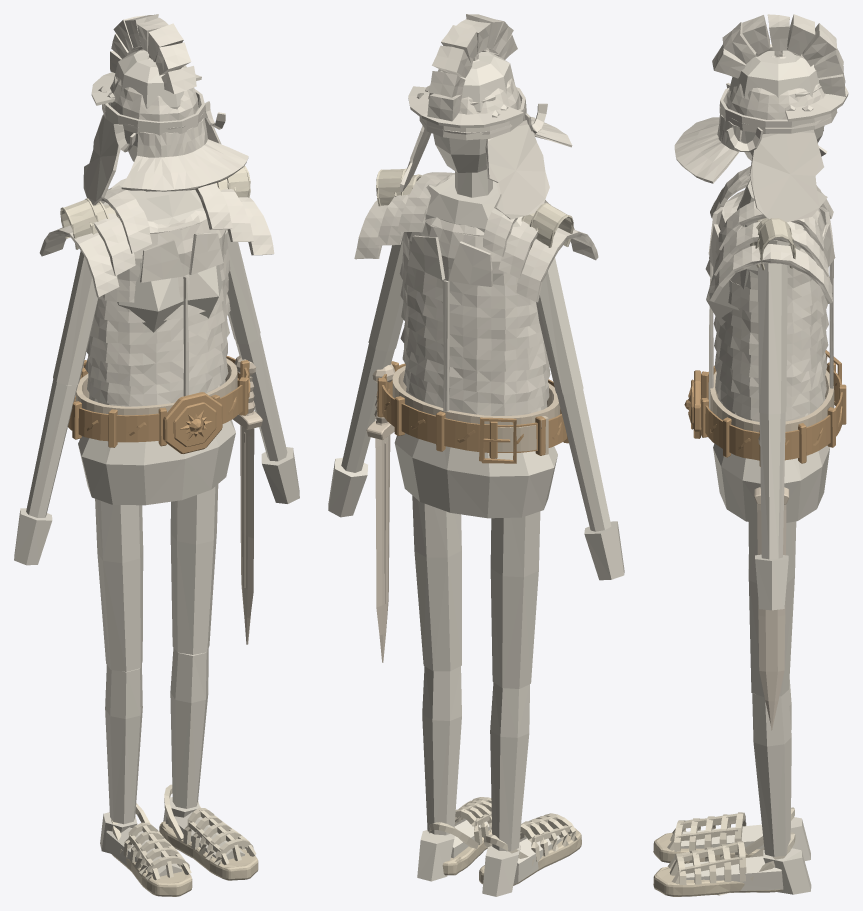
Rendered from roman-female-skinny.glb.
3 renders of one model, left to right at view 1: azimuth 30°, elevation 25°; view 2: azimuth 150°, elevation 25°; view 3: azimuth 270°, elevation 25°, orthographic. The views are drawn at different scales.
Parts seen in each view (by area): view 1: torso, leg_upper_l, leg_upper_r, helmet:neck_guard, leg_lower_r, leg_lower_l, arm_lower_l, arm_upper_l, cuirass:girth_hoop_3, cuirass:girth_hoop_2, cuirass:girth_hoop_4, cuirass:girth_hoop_1 (+34 smaller); view 2: torso, leg_upper_l, leg_upper_r, leg_lower_r, leg_lower_l, helmet:cheek_guard_r, arm_lower_l, arm_upper_l, head, cuirass:girth_hoop_2, cuirass:girth_hoop_1, cuirass:girth_hoop_3 (+39 smaller); view 3: torso, helmet:cheek_guard_l, leg_lower_r, arm_upper_r, arm_lower_r, head, leg_upper_r, helmet:neck_guard, gladius:blade, cuirass:shoulder_lame_l2, helmet:bowl, cuirass:girth_hoop_3 (+38 smaller).
Boxes of the visible parts, x1,y1,x2,y2 form: torso: [78, 178, 235, 505]; leg_upper_l: [95, 498, 143, 671]; leg_upper_r: [170, 484, 218, 654]; helmet:neck_guard: [121, 118, 248, 191]; leg_lower_r: [170, 647, 208, 808]; leg_lower_l: [105, 664, 142, 824]; arm_lower_l: [26, 379, 77, 517]; arm_upper_l: [53, 251, 98, 385]; cuirass:girth_hoop_3: [86, 317, 229, 365]; cuirass:girth_hoop_2: [85, 338, 227, 386]; cuirass:girth_hoop_4: [90, 294, 230, 344]; cuirass:girth_hoop_1: [87, 357, 228, 405]; torso: [394, 174, 557, 518]; leg_upper_l: [490, 511, 540, 688]; leg_upper_r: [412, 495, 461, 671]; leg_lower_r: [422, 666, 461, 835]; leg_lower_l: [490, 682, 529, 851]; helmet:cheek_guard_r: [485, 120, 549, 219]; arm_lower_l: [557, 389, 611, 531]; arm_upper_l: [536, 257, 583, 394]; head: [432, 51, 514, 172]; cuirass:girth_hoop_2: [402, 344, 550, 395]; cuirass:girth_hoop_1: [403, 366, 549, 415]; cuirass:girth_hoop_3: [400, 321, 548, 371]; torso: [705, 179, 829, 522]; helmet:cheek_guard_l: [749, 129, 827, 222]; leg_lower_r: [752, 690, 791, 856]; arm_upper_r: [758, 263, 787, 414]; arm_lower_r: [759, 412, 785, 559]; head: [729, 50, 824, 160]; leg_upper_r: [748, 521, 796, 697]; helmet:neck_guard: [674, 114, 742, 183]; gladius:blade: [757, 504, 786, 730]; cuirass:shoulder_lame_l2: [709, 244, 832, 303]; helmet:bowl: [726, 53, 825, 119]; cuirass:girth_hoop_3: [714, 331, 828, 377].
Bounding box in the file's own units: 0.6347 × 1.76 × 0.3623.
